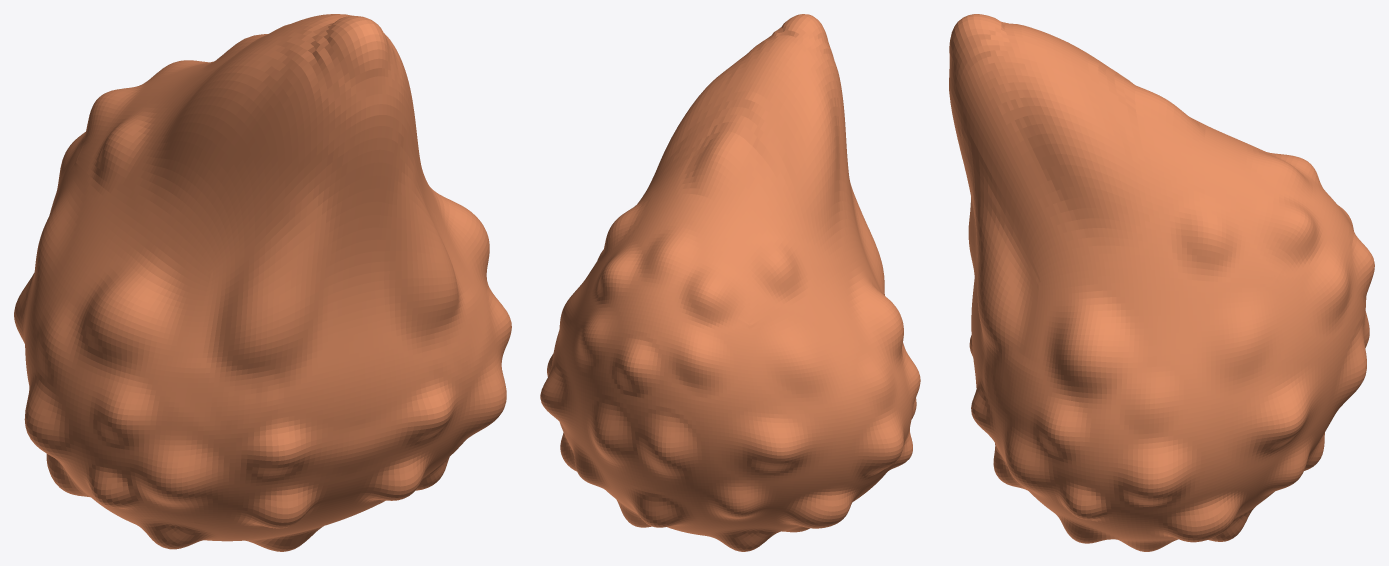
The model's file is blobject1.gltf.
3 renders of one model, left to right at view 1: azimuth 30°, elevation 25°; view 2: azimuth 150°, elevation 25°; view 3: azimuth 270°, elevation 25°, orthographic. The views are drawn at different scales.
Parts seen in each view (by area): view 1: Quad Sphere; view 2: Quad Sphere; view 3: Quad Sphere.
Part boxes in pixels (box(x1,y1,x2,y2)): Quad Sphere: box(14, 14, 511, 551); Quad Sphere: box(540, 14, 920, 551); Quad Sphere: box(949, 14, 1374, 551).
Size of the model in its own units: 3.21 by 3.98 by 3.02.
